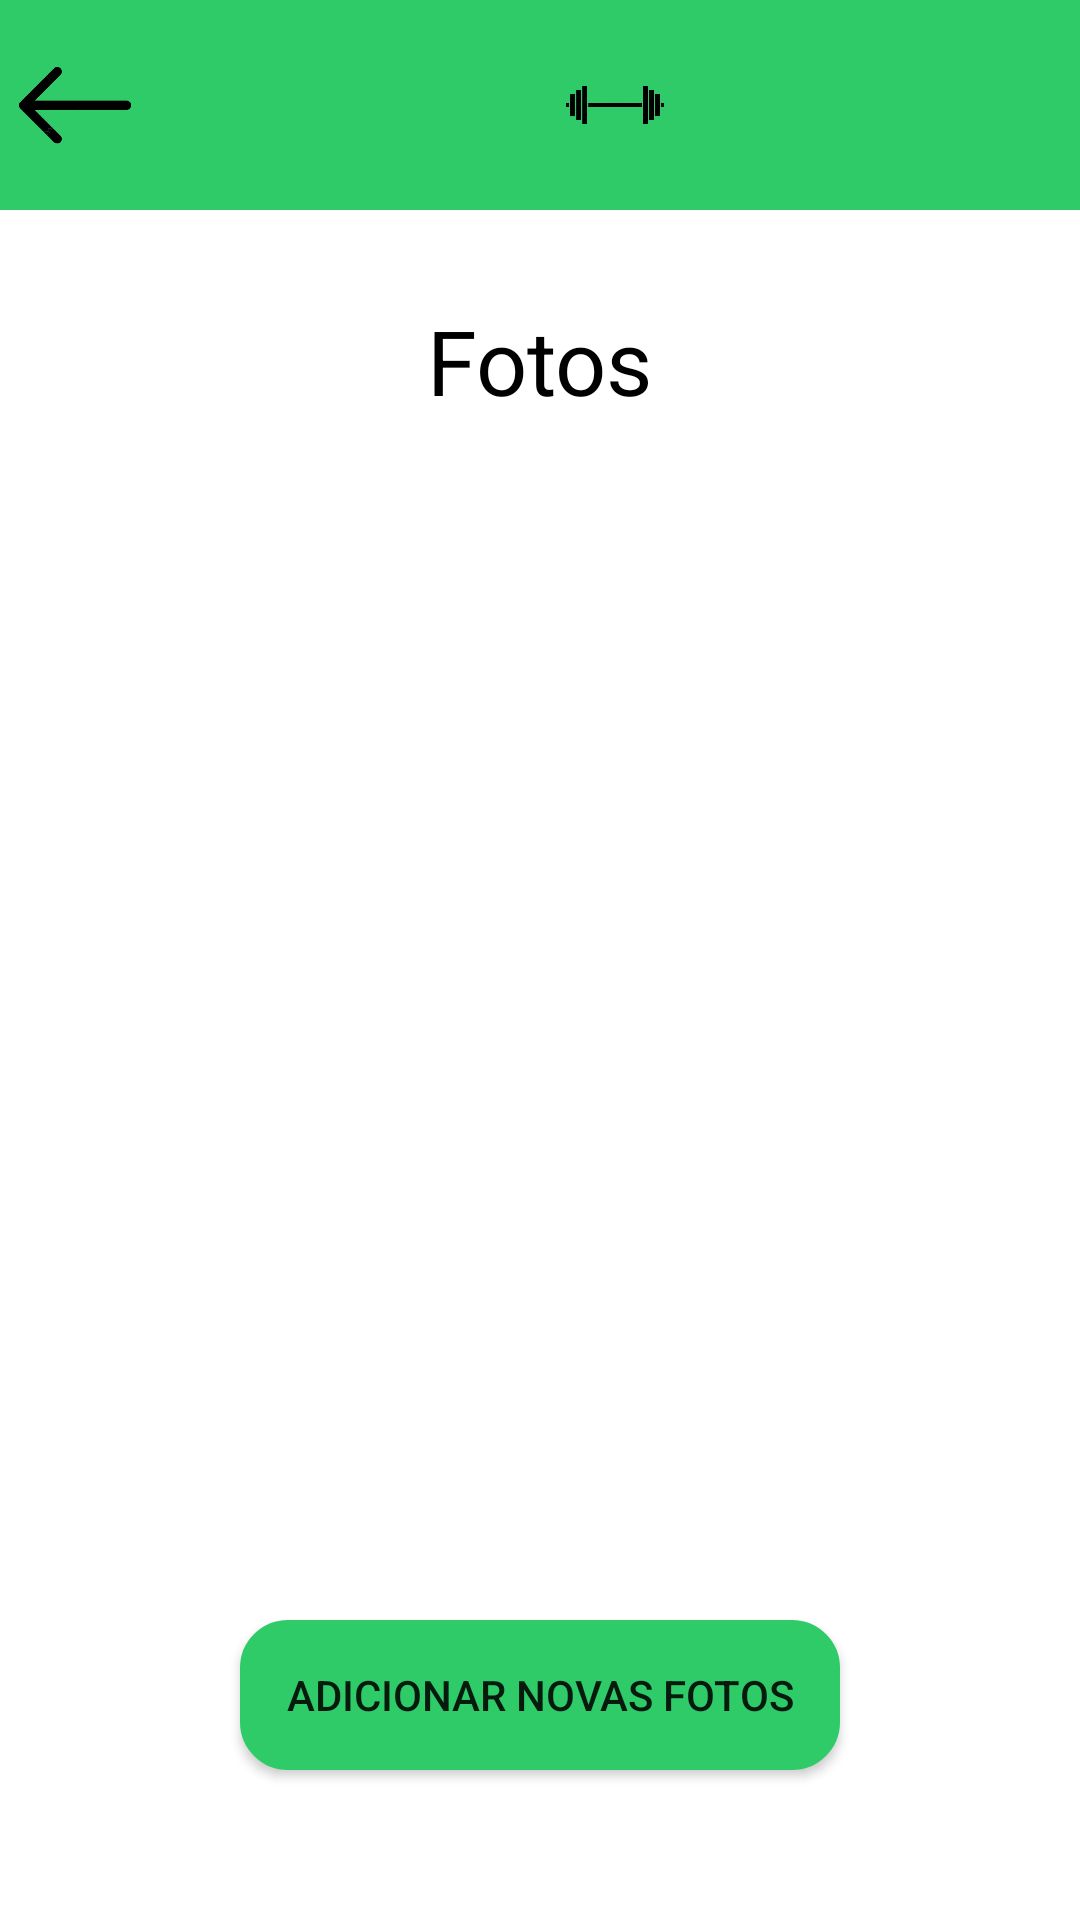

Icon bounding boxes for this 1080 × 1920 phone screenshot, format (x1, y1, x2, y2):
voltar: (19, 67, 131, 144)
